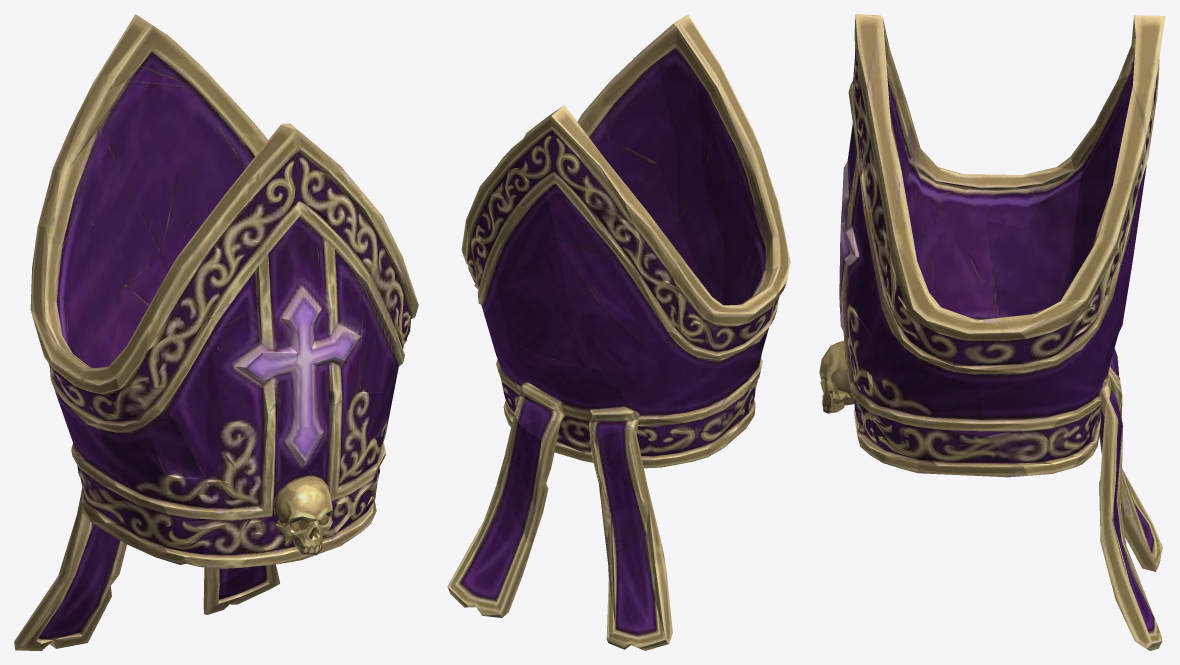
The model's file is voto-testa.glb.
3 renders of one model, left to right at view 1: azimuth 30°, elevation 25°; view 2: azimuth 150°, elevation 25°; view 3: azimuth 270°, elevation 25°, orthographic. The views are drawn at different scales.
Parts seen in each view (by area): view 1: Mesh_0; view 2: Mesh_0; view 3: Mesh_0.
Boxes of the visible parts, x1,y1,x2,y2 form: Mesh_0: (14, 14, 418, 650); Mesh_0: (447, 14, 790, 650); Mesh_0: (819, 14, 1165, 650).
Bounding box in the file's own units: 1.05 × 1.9 × 1.01.
1 material, 1 textured.
